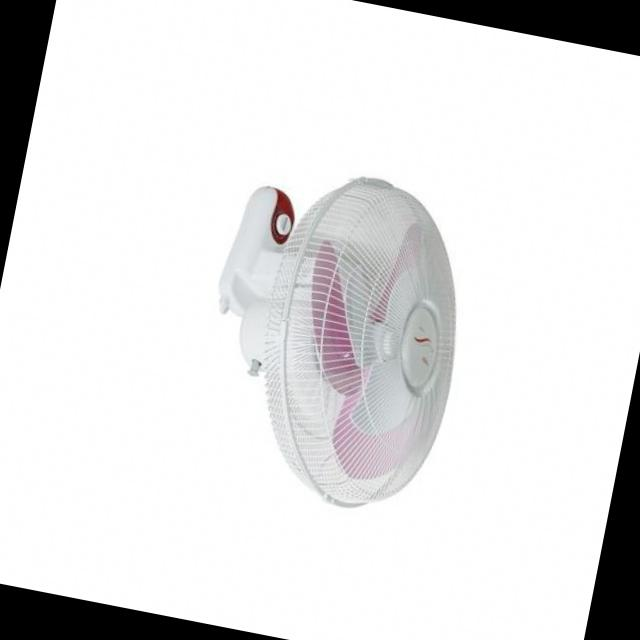fan: (172, 140, 504, 538)
